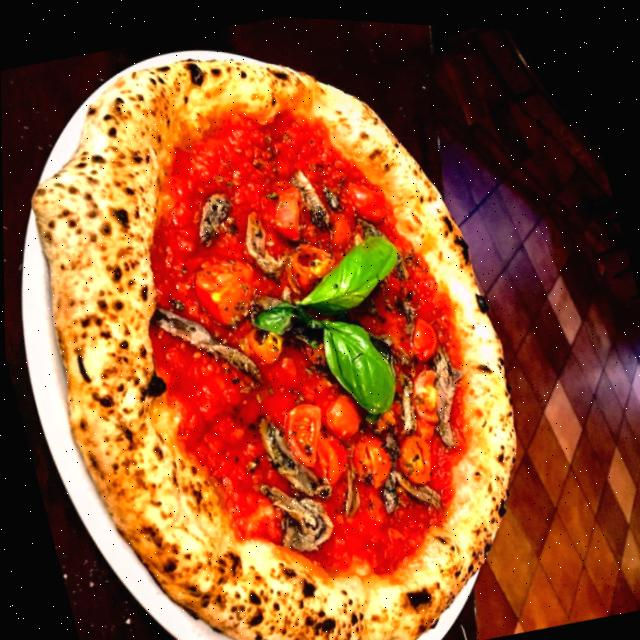basil: (283, 222, 407, 321), (310, 299, 400, 420), (249, 294, 301, 336)
mushrooms: (151, 286, 259, 398), (255, 403, 332, 506), (256, 466, 335, 557), (415, 339, 478, 445), (364, 425, 413, 510), (236, 204, 286, 279), (288, 161, 331, 232), (189, 187, 238, 243), (392, 458, 440, 510), (329, 455, 363, 515), (373, 463, 404, 510), (392, 378, 420, 427), (395, 292, 419, 331), (356, 209, 384, 238), (322, 182, 338, 207)
pizza: (0, 0, 569, 640)
